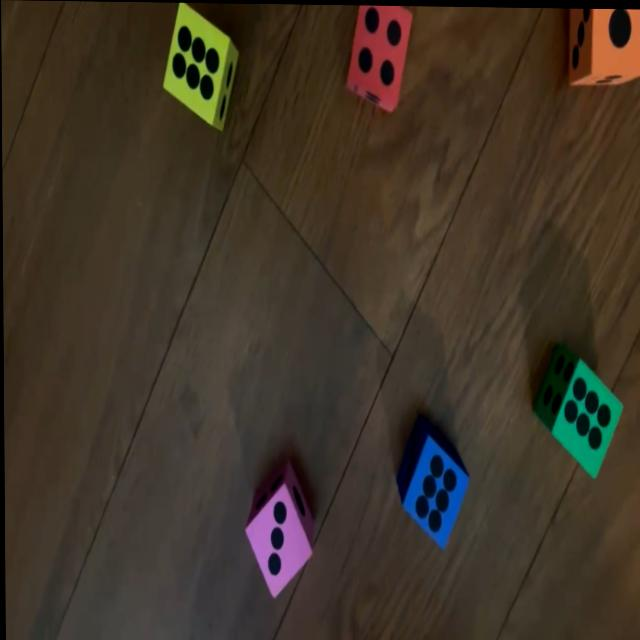cube: (531, 347, 622, 477), (394, 416, 469, 547), (344, 4, 411, 113)
